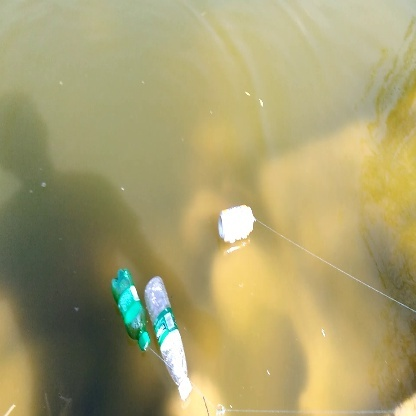bottle: (146, 274, 198, 401), (108, 265, 151, 352), (214, 200, 259, 246)
